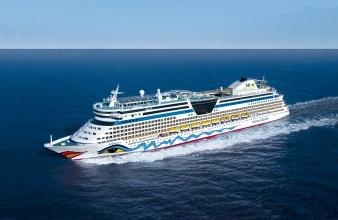youlun: (44, 67, 288, 166)
